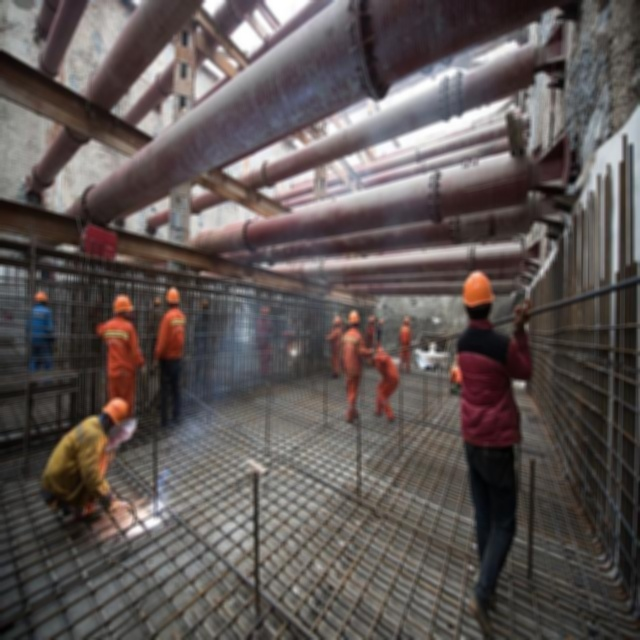Con_Casco: (461, 269, 495, 320), (102, 398, 128, 440), (114, 294, 135, 320), (166, 287, 180, 309), (349, 311, 360, 329)
Sin_Chaleco: (450, 325, 518, 446)
